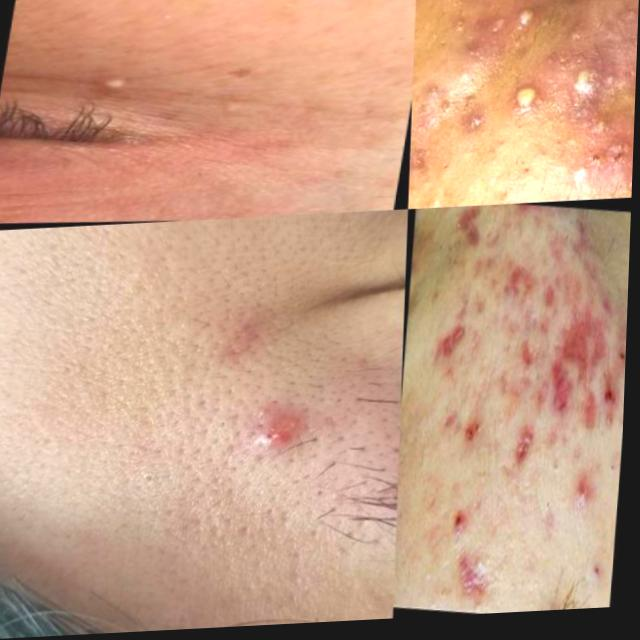7: (184, 88, 307, 124), (72, 64, 156, 107), (139, 0, 204, 29), (276, 0, 302, 18)
9: (511, 0, 557, 48), (507, 78, 547, 125)
blackheads: (222, 386, 332, 479), (584, 0, 640, 112), (567, 294, 608, 383), (458, 543, 504, 619), (502, 258, 540, 320), (513, 328, 549, 393), (582, 377, 608, 452), (546, 360, 574, 429), (516, 413, 540, 488), (435, 319, 464, 375), (441, 403, 467, 452), (460, 210, 485, 251)
dark spot: (130, 456, 167, 501), (427, 568, 462, 610), (538, 486, 567, 535), (428, 232, 454, 285), (550, 437, 575, 479), (607, 445, 620, 499)
pustules: (571, 54, 601, 109)
